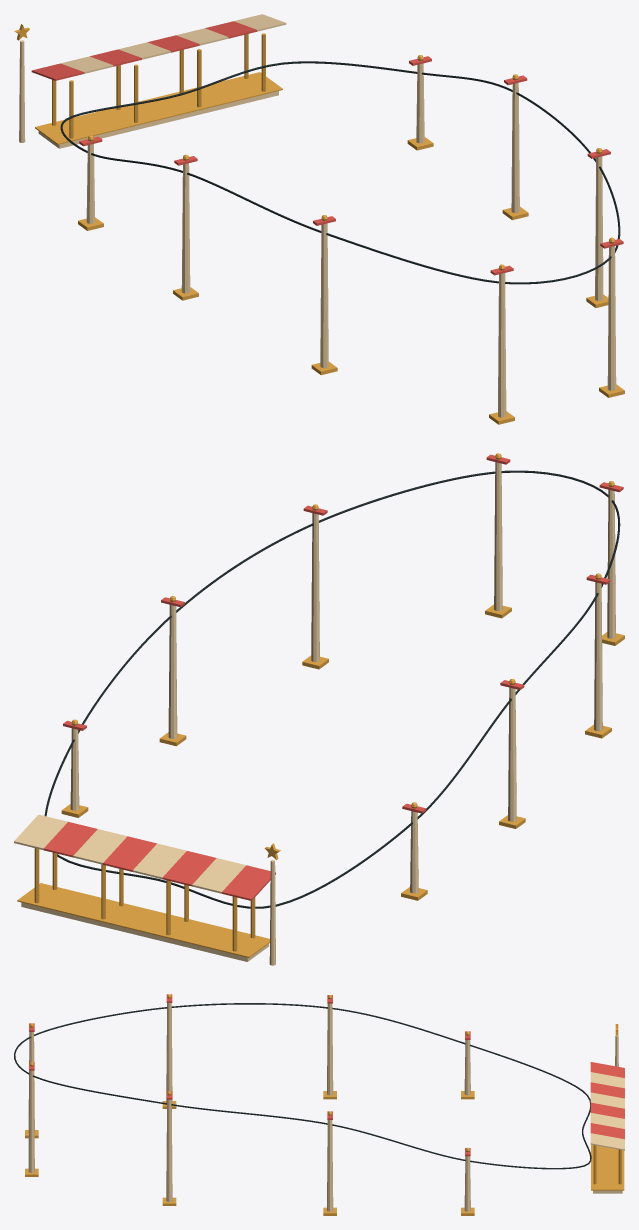
File: ParkParkSkyTrackV2.obj
The picture shows the model from 3 angles, top to bottom: view 1: azimuth 30°, elevation 25°; view 2: azimuth 150°, elevation 25°; view 3: azimuth 270°, elevation 25°; orthographic projection. The views are drawn at different scales.
Visible parts, largest first — view 1: ParkParkSkyTrackV2; view 2: ParkParkSkyTrackV2; view 3: ParkParkSkyTrackV2.
Boxes of the visible parts, x1,y1,x2,y2 form: ParkParkSkyTrackV2: (14, 14, 624, 424); ParkParkSkyTrackV2: (14, 453, 624, 965); ParkParkSkyTrackV2: (14, 994, 624, 1215).
Bounding box in the file's own units: 25.4 × 10.77 × 53.25.
